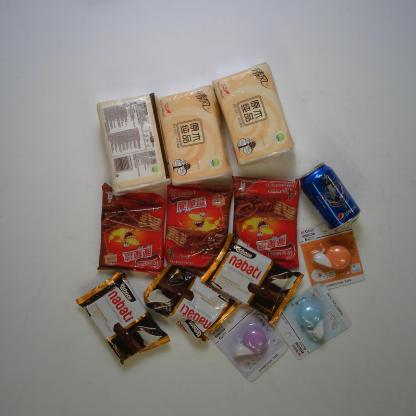Dessert: (201, 232, 305, 326), (74, 270, 171, 367), (142, 264, 238, 342), (232, 174, 300, 271), (163, 180, 234, 272), (97, 183, 166, 276)
Drink: (298, 162, 361, 230)
Stationery: (208, 297, 288, 382), (270, 281, 352, 361), (298, 217, 366, 296)
Tissue: (212, 62, 295, 169), (95, 92, 171, 196), (158, 84, 233, 186)
